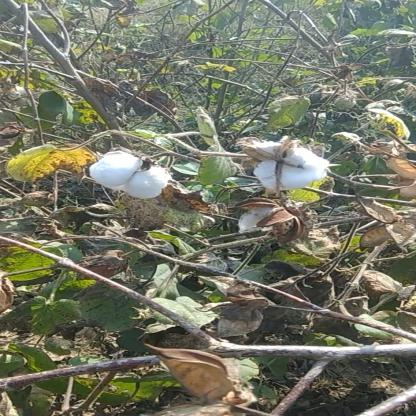cotton_ready: (218, 132, 338, 196), (65, 155, 181, 201)
